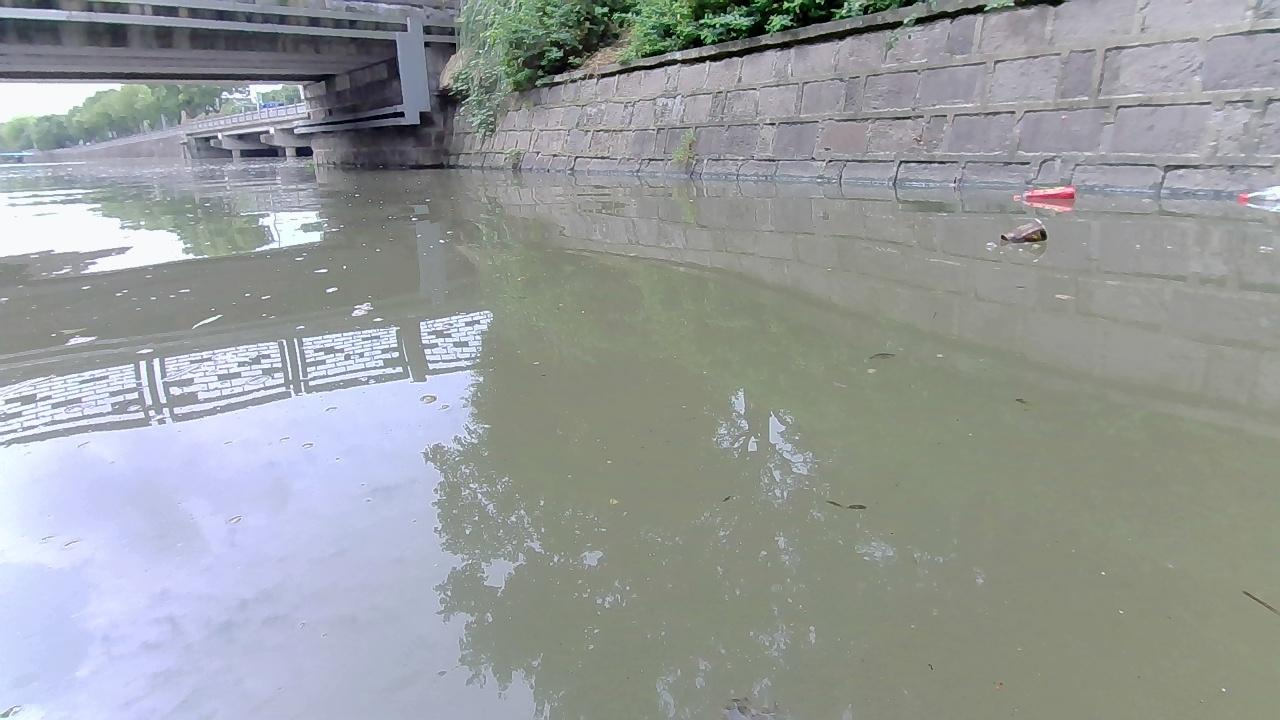bottle: (996, 216, 1053, 248), (1008, 179, 1073, 206), (1239, 181, 1279, 205)
